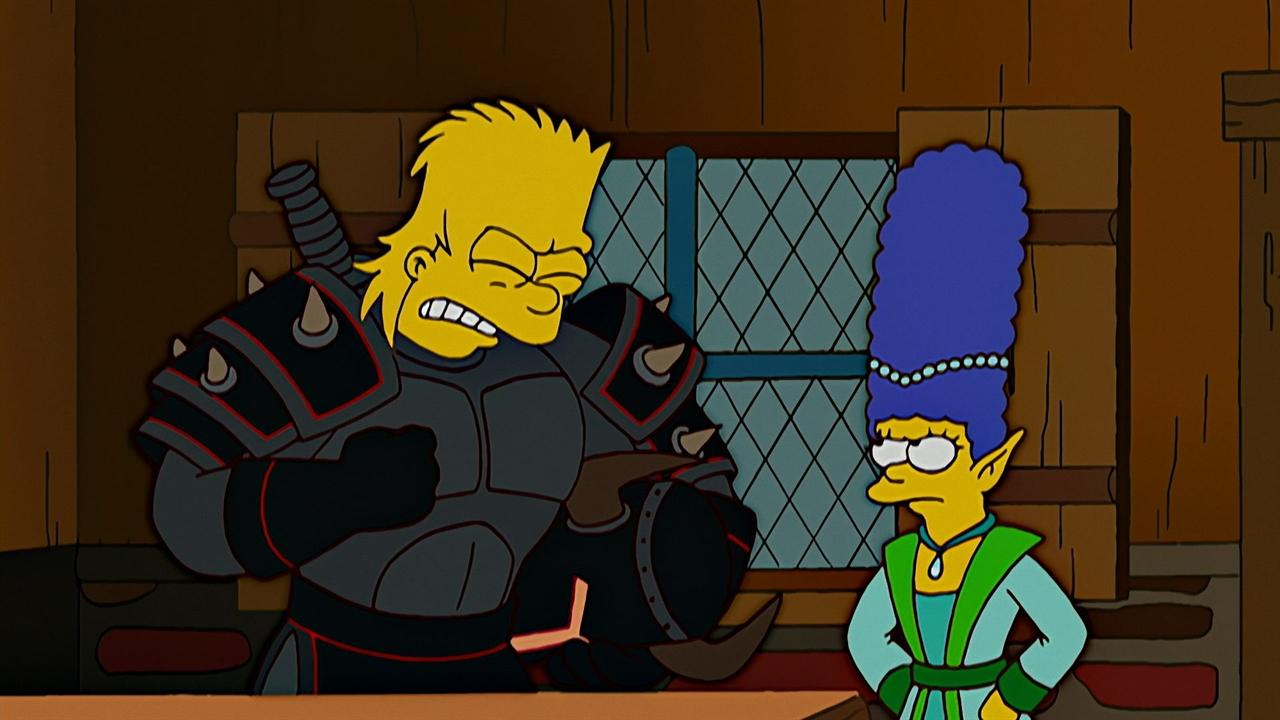Bart: (349, 77, 617, 385)
Marge: (806, 120, 1123, 720)
